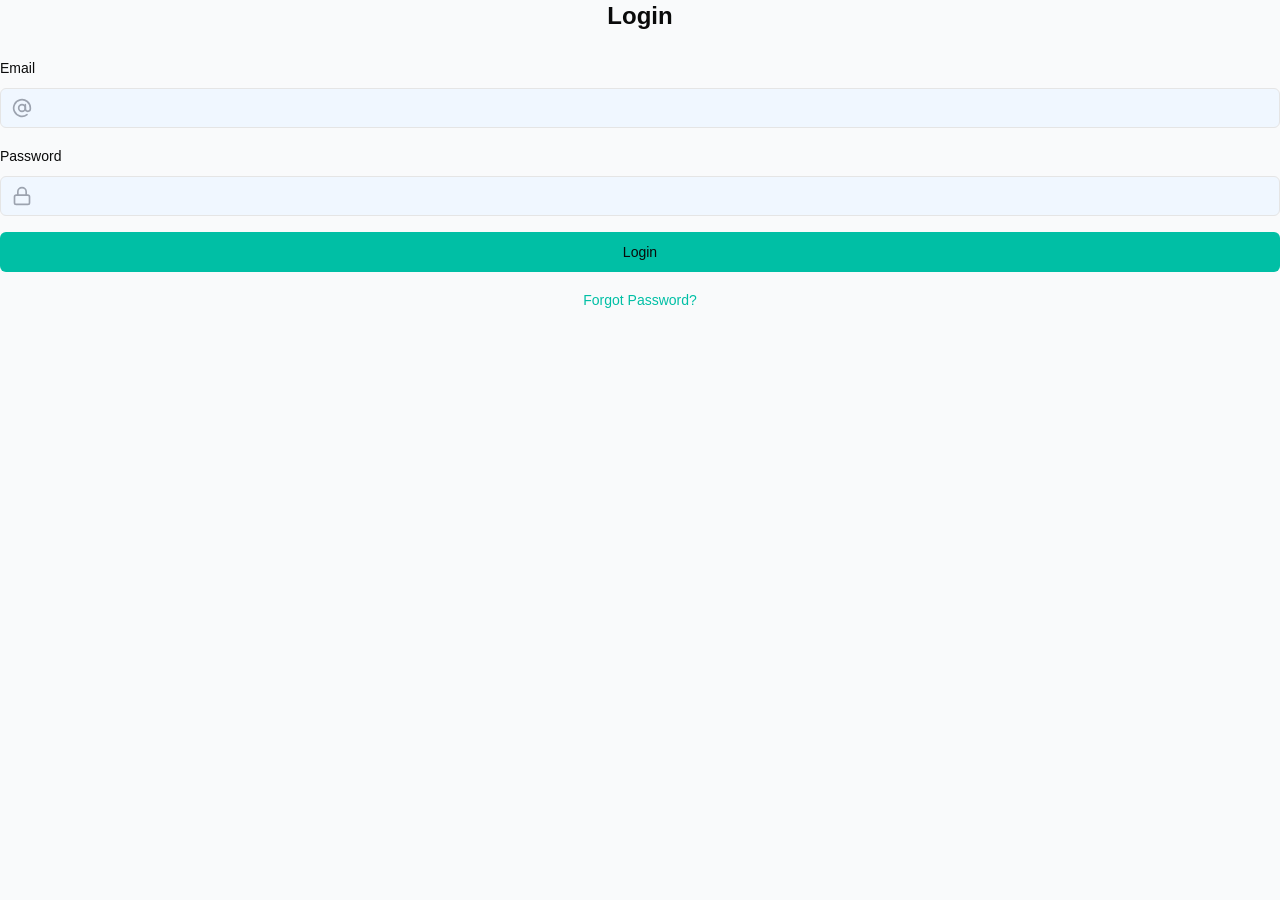
Test: LoginForm › Forgot Password Dialog › shows error for invalid forgot password email
Click the button "Forgot Password?".
click(640, 300)  # box left=583, top=290, right=697, bottom=310
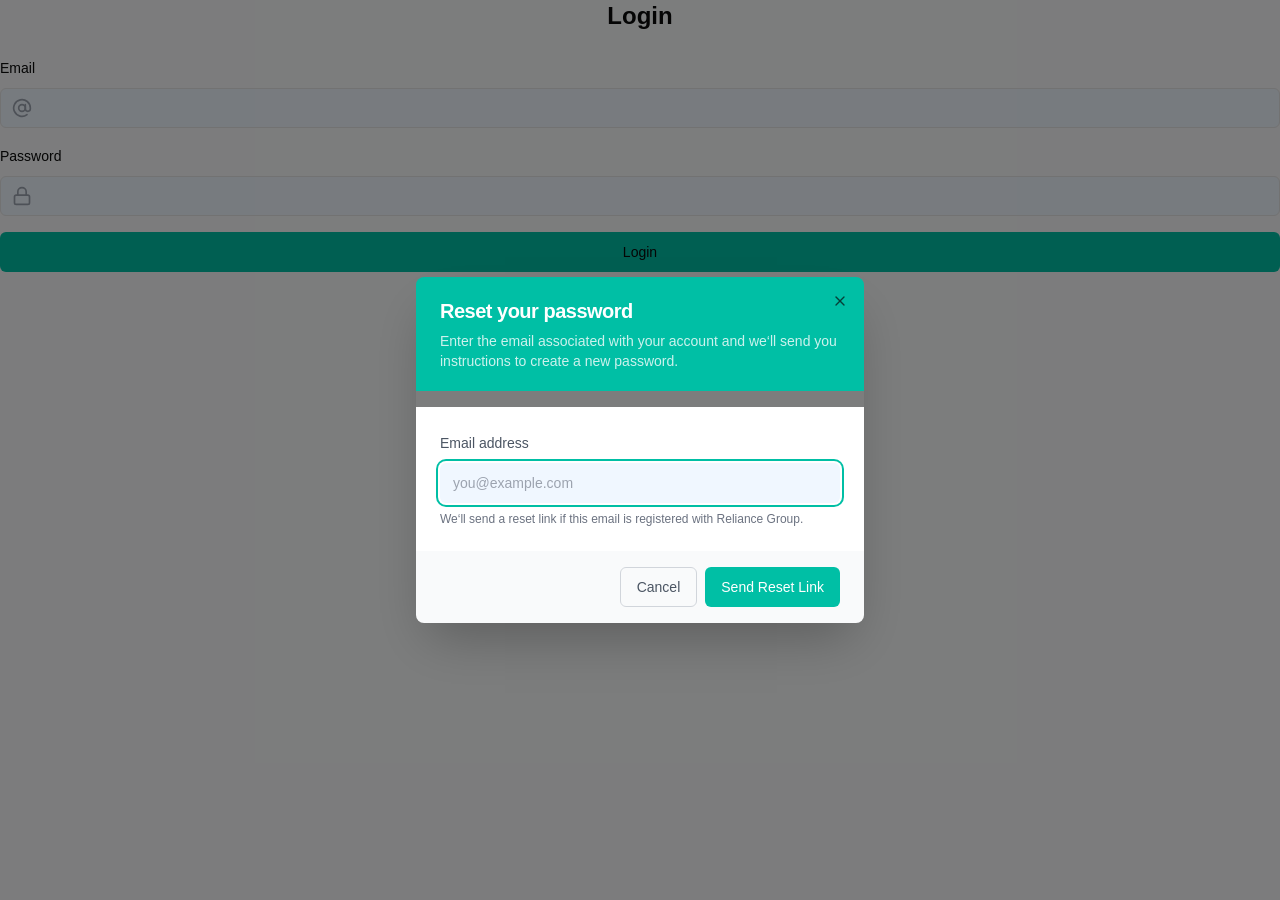
Result: the heading "Reset your password" is shown at left=440, top=300, right=633, bottom=322
Type "bad-email" into the field with placeholder "you@example.com".
click(640, 483); type("bad-email")  # box left=440, top=463, right=840, bottom=503
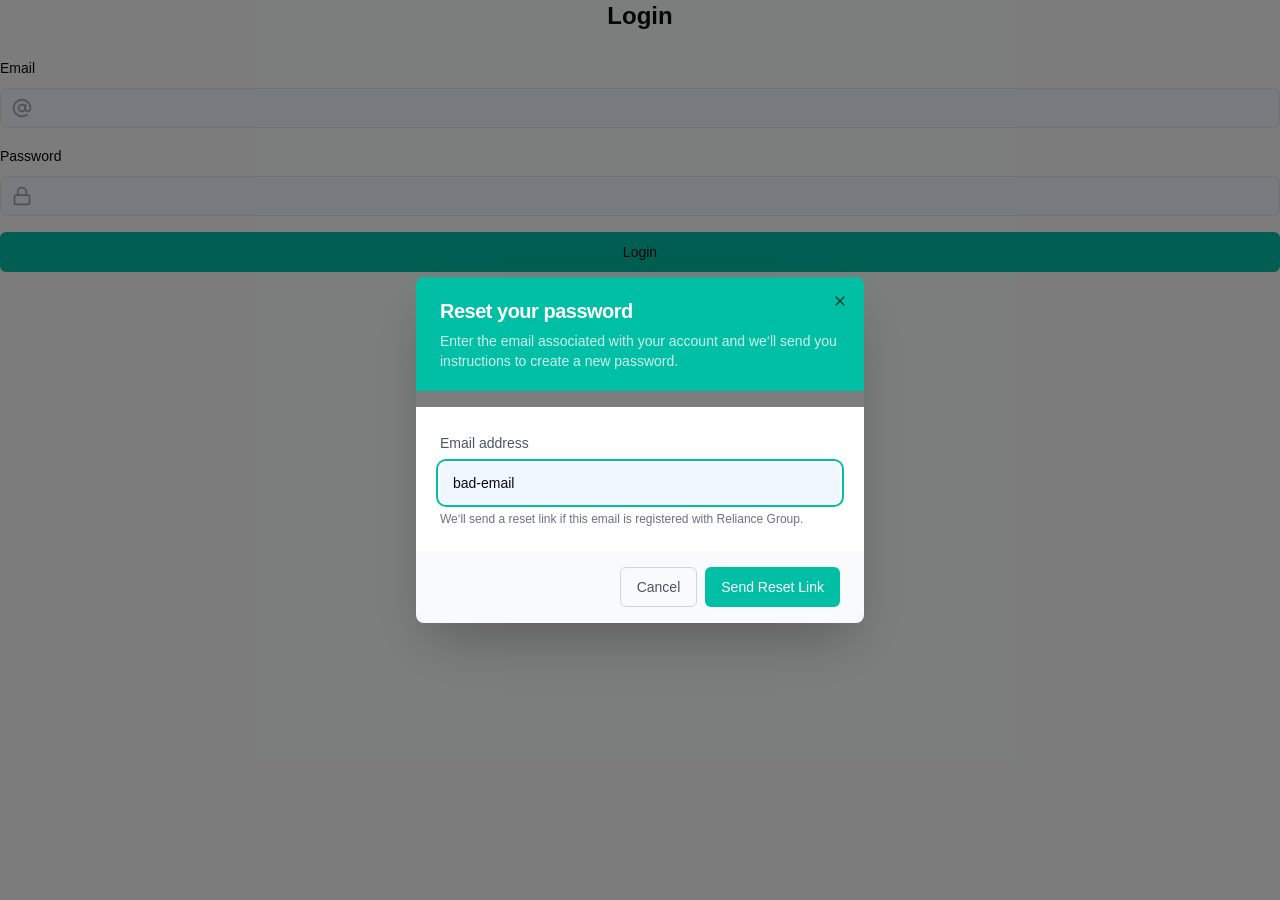
Submit the form from the button "Send Reset Link", box left=705, top=567, right=840, bottom=607
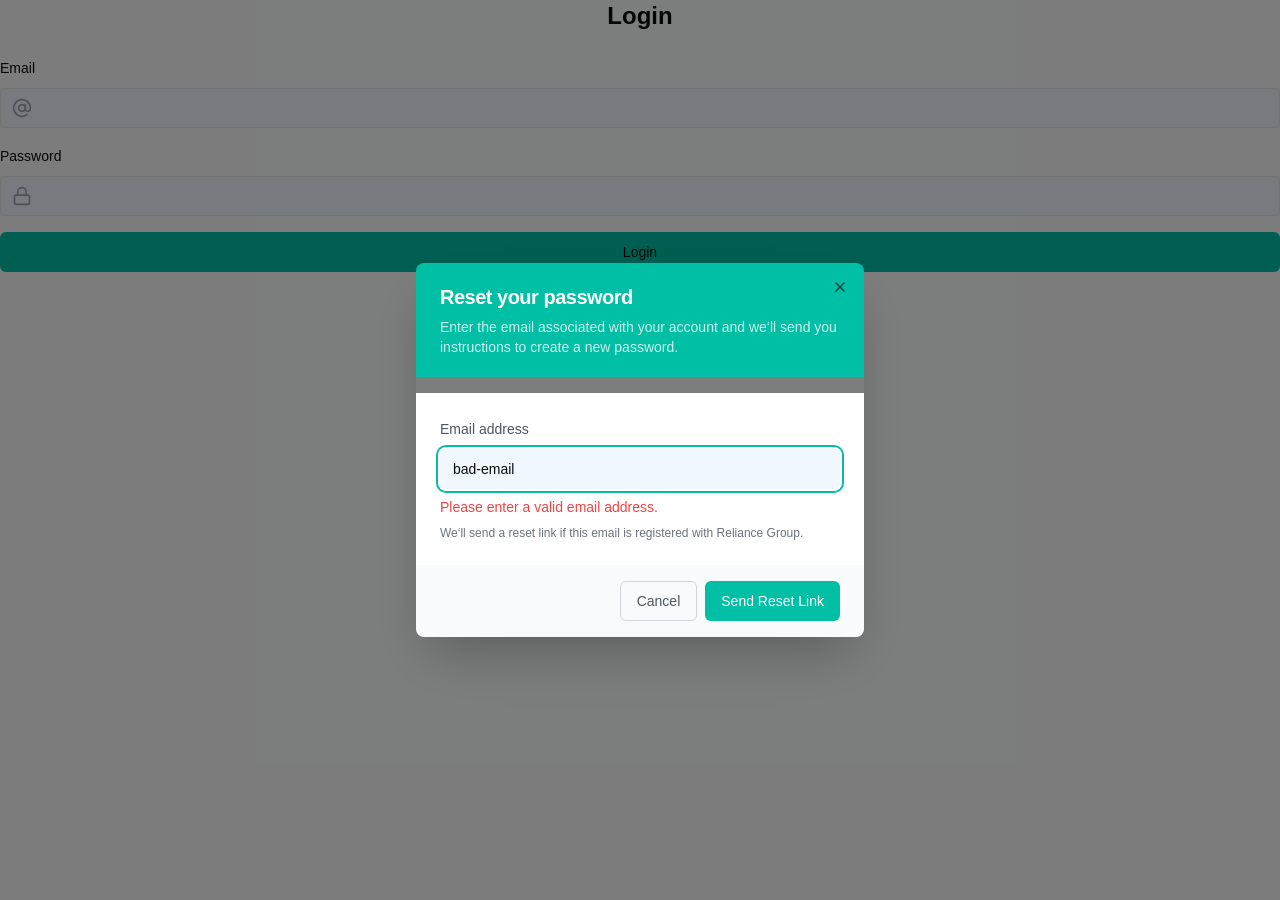
Result: the text "Please enter a valid email address." is shown at left=440, top=499, right=658, bottom=515
